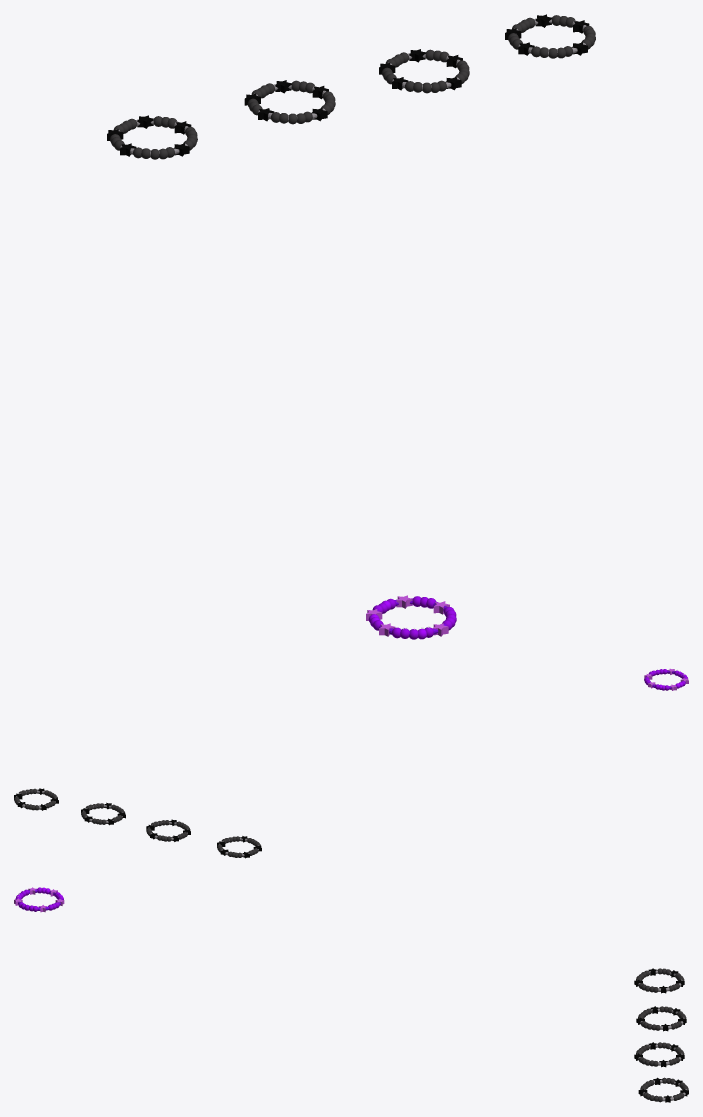
Rendered from SpeakNow_Mine.fbx.
3 renders of one model, top to bottom at view 1: azimuth 30°, elevation 25°; view 2: azimuth 150°, elevation 25°; view 3: azimuth 270°, elevation 25°, orthographic. The views are drawn at different scales.
Bounding box in the file's own units: 1165 × 15.79 × 1571.
